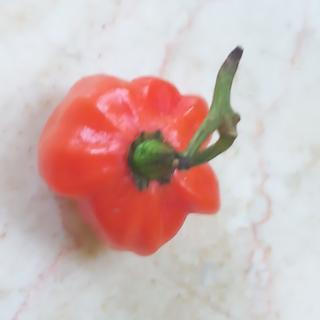Grade-B: (30, 61, 228, 257)
